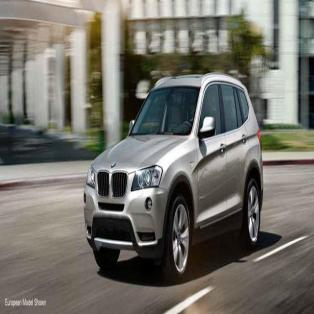Auto: (84, 73, 264, 281)
